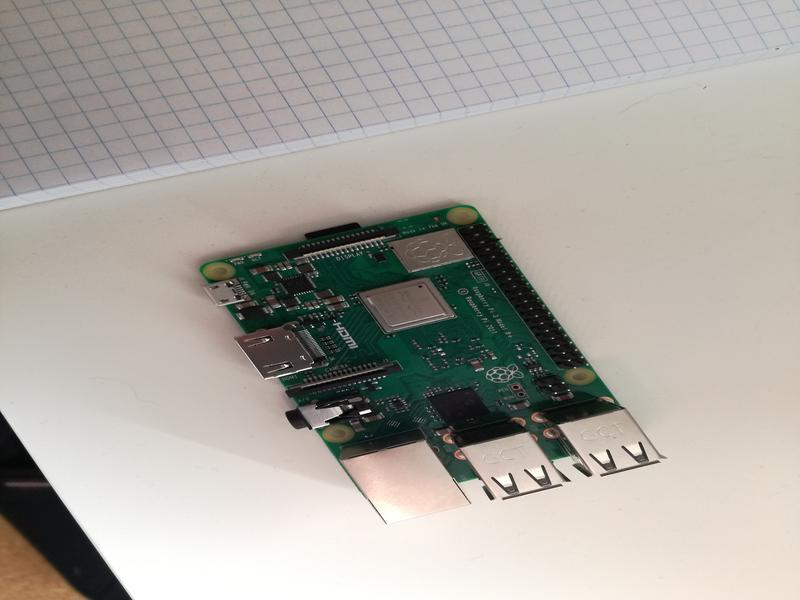Raspberry_Pi_3: (194, 200, 669, 531)
